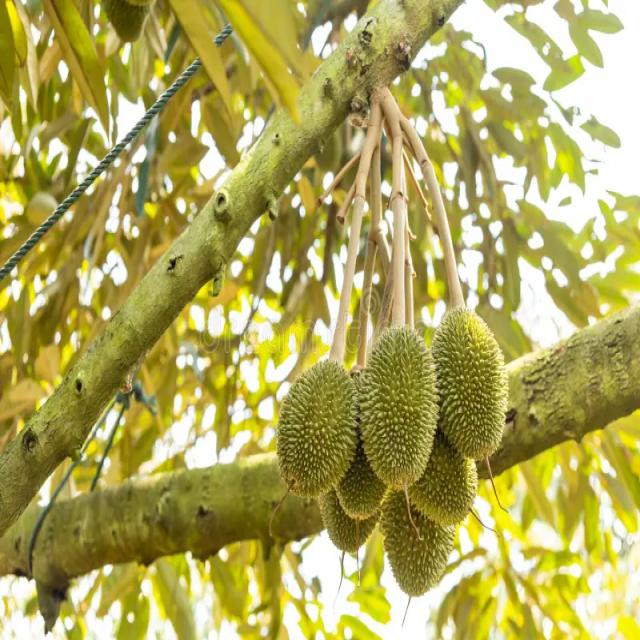immature: (357, 324, 442, 488), (432, 307, 512, 463), (274, 356, 359, 500), (382, 484, 458, 601), (322, 444, 388, 554), (406, 433, 478, 527)
